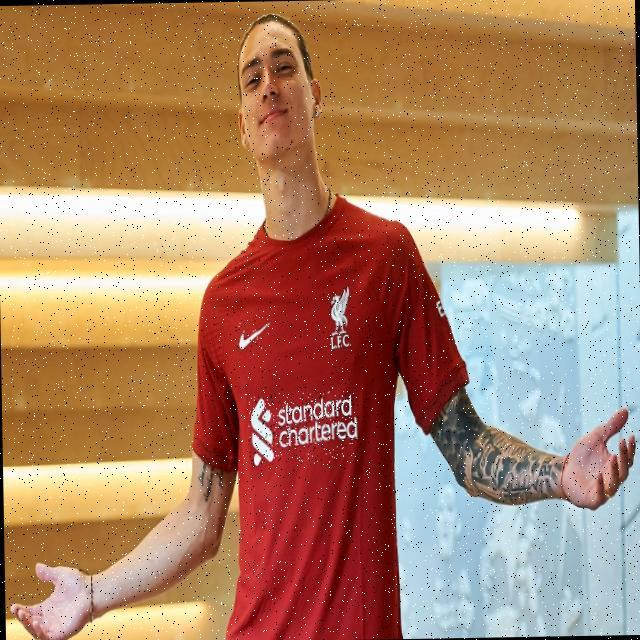Nike: (235, 319, 272, 352)
Standard Chartered: (248, 391, 359, 465)
